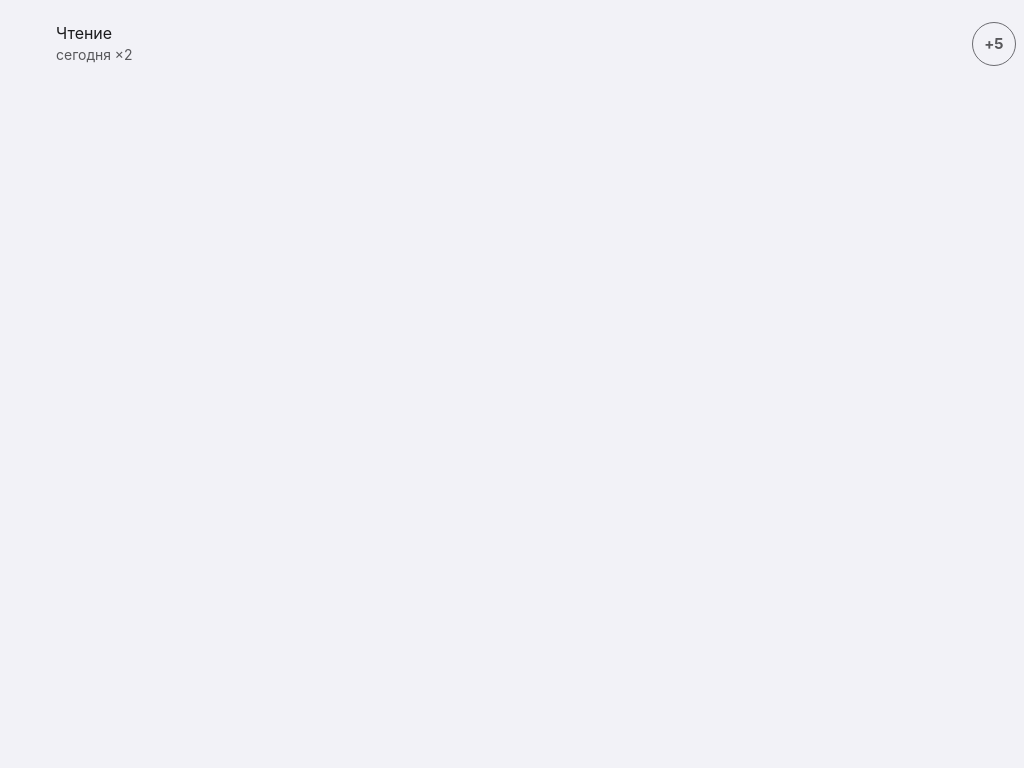
it: StepRow › ignores a second tap while busy and for 600 ms after the write
This screenshot has width=1024, height=768.
Later steps or results of the test are not shown.
Step 1. Click the button named "Отметить: Чтение, +5 очков" → (994, 44), box [972,22,1016,66]
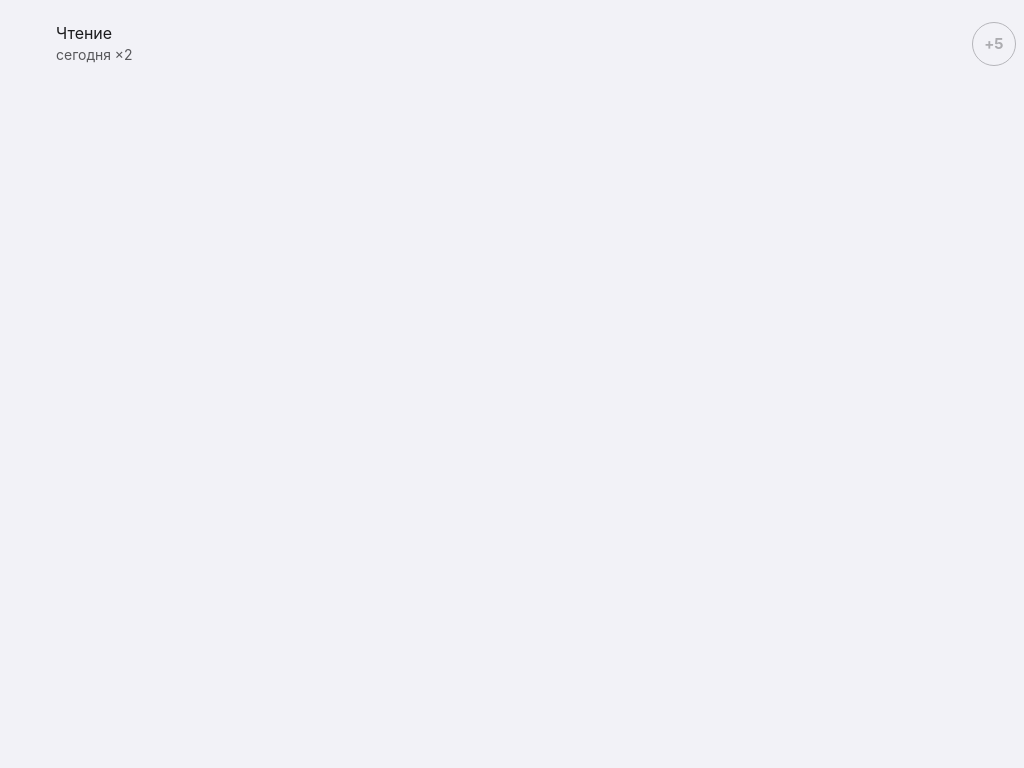
Step 2. Click the button named "Отметить: Чтение, +5 очков" → (994, 44), box [972,22,1016,66]
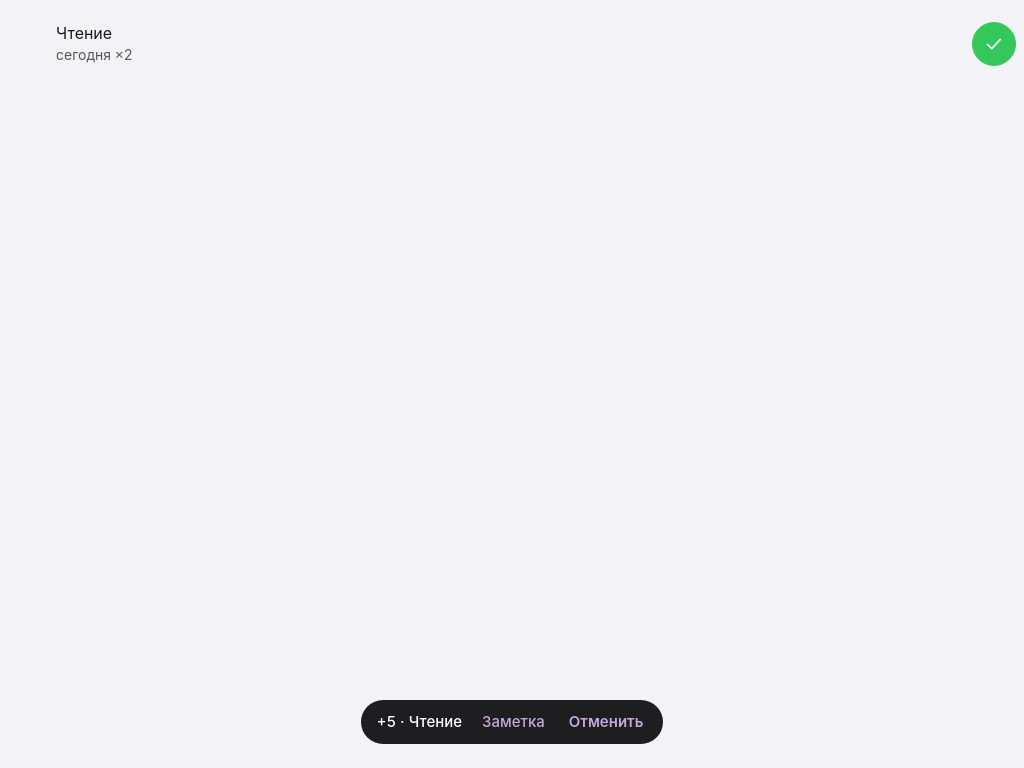
Step 3. Click the button named "Отметить: Чтение, +5 очков" → (994, 44), box [972,22,1016,66]
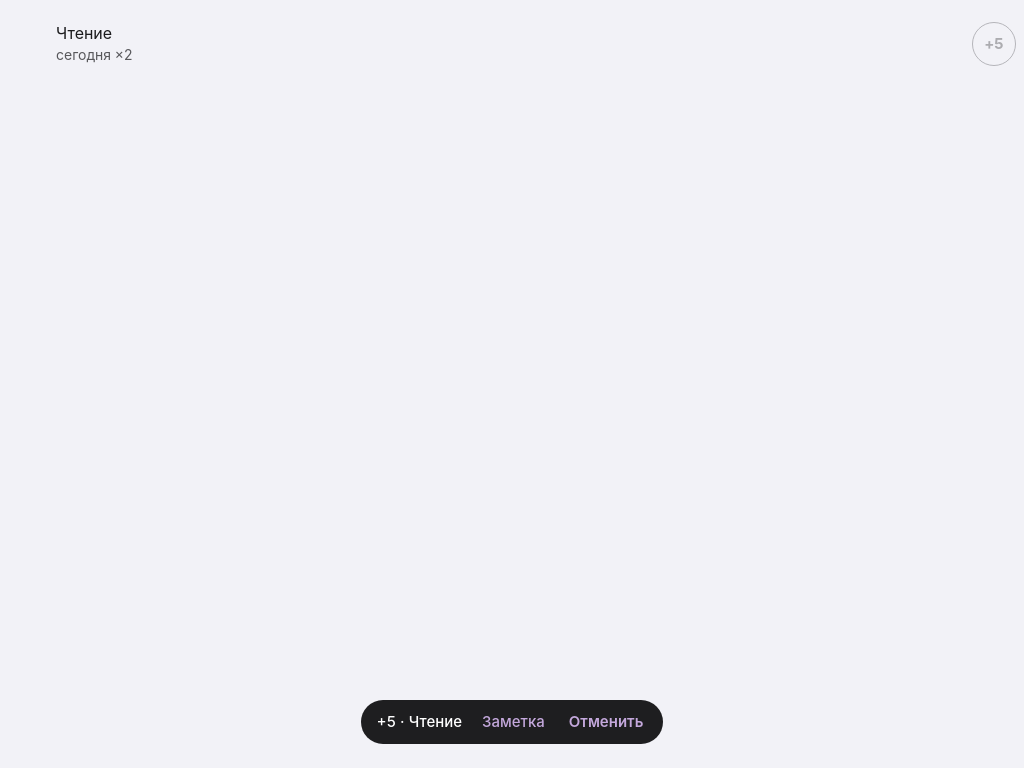
Expected: the button named "Отметить: Чтение, +5 очков" does not have class "done", [972,22,1016,66]
